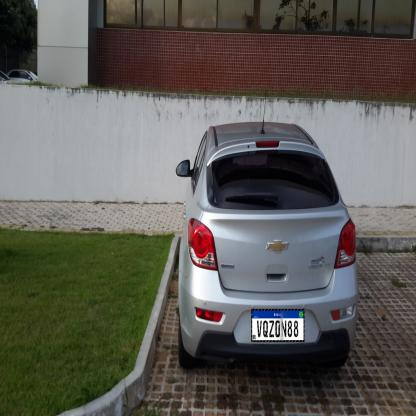PlacaM: (251, 309, 305, 342)
